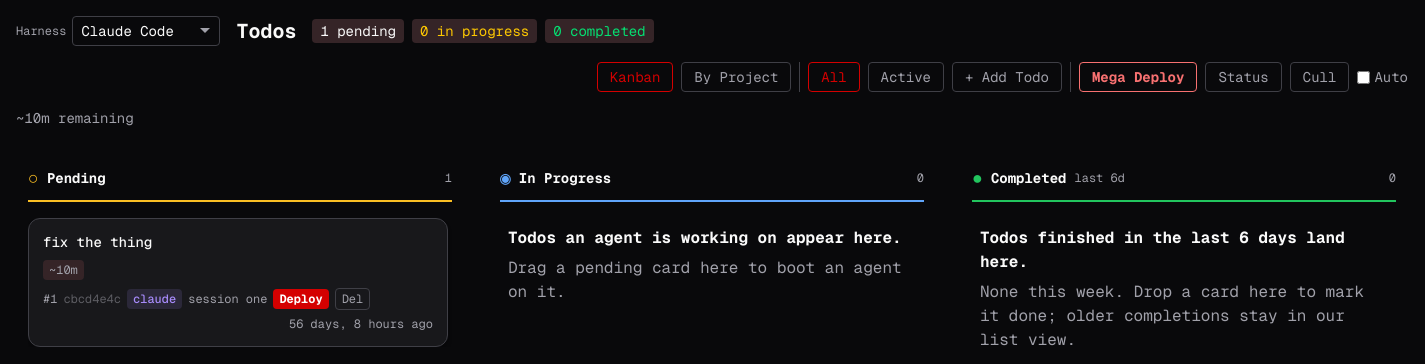
Test: TodoBoard › names the project only in the view that groups by it
expect the text "fix the thing" is shown: met, box [43, 233, 152, 251]
expect the text "demo" is not shown: met
Click the button "By Project": (736, 77) [681, 62, 791, 92]
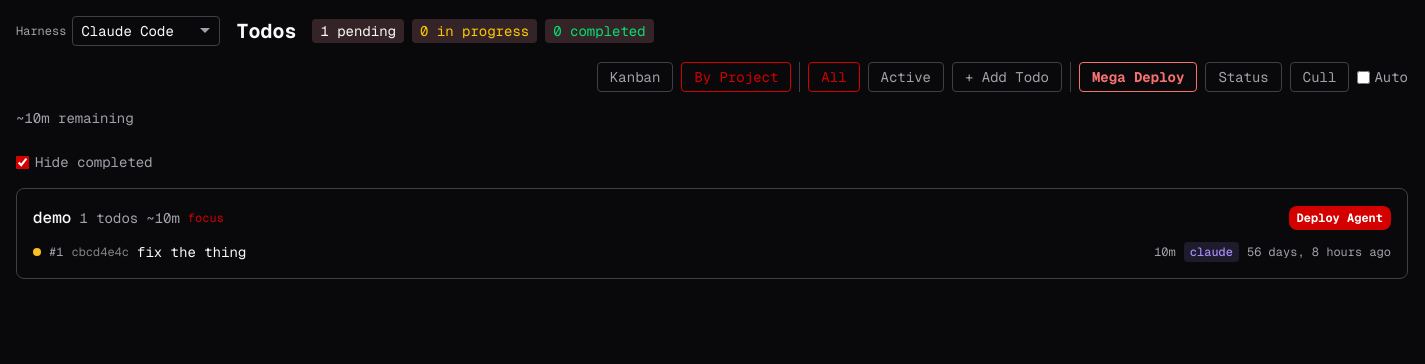
expect the text "demo" is shown: met, box [33, 206, 71, 230]
